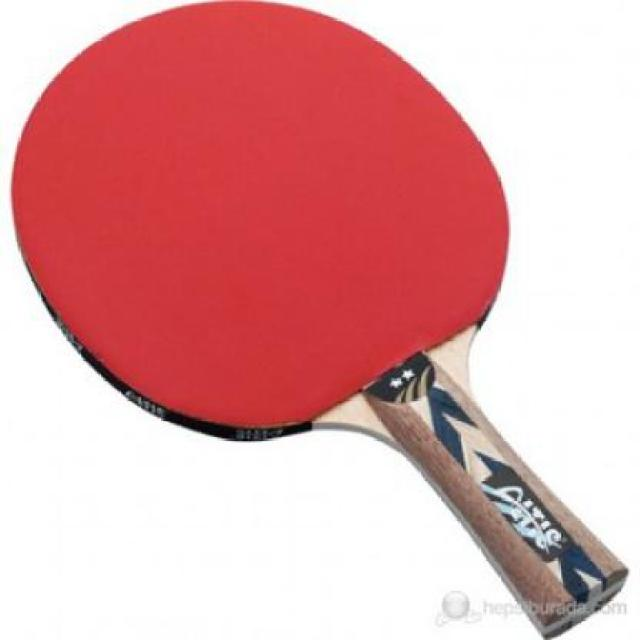table_tennis_racket: (5, 0, 520, 442)
